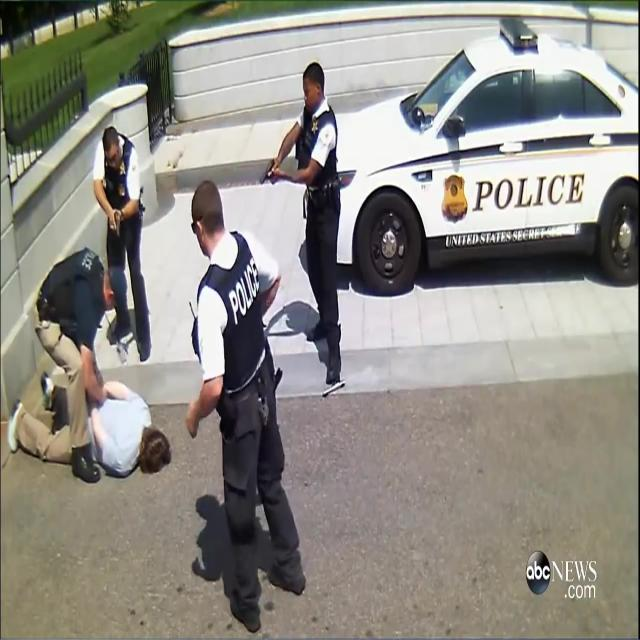Weapon: (252, 140, 286, 198), (107, 206, 133, 243)
